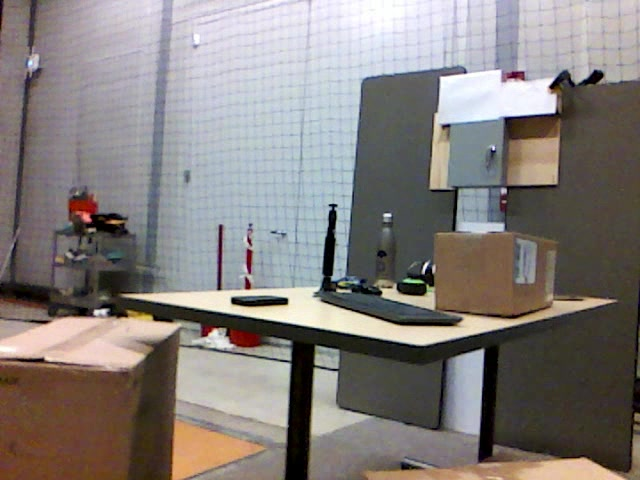box: (1, 316, 180, 480), (433, 230, 558, 314)
